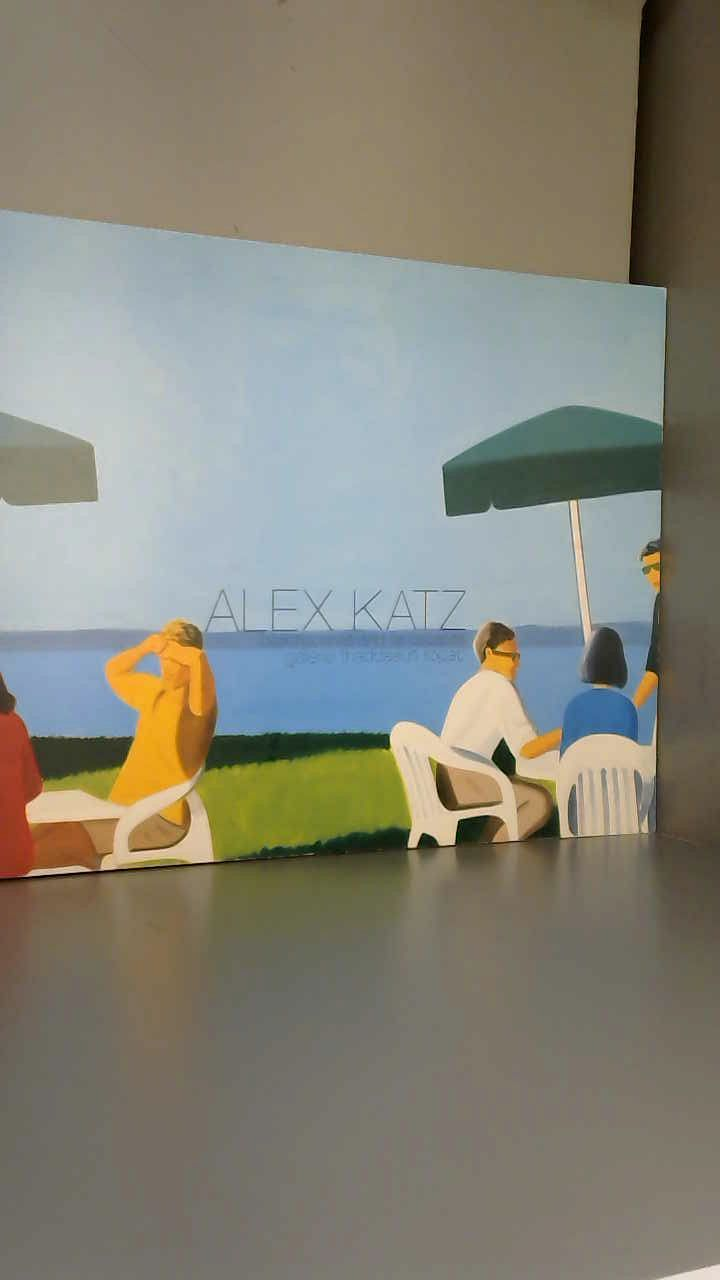book: (70, 390, 720, 910)
